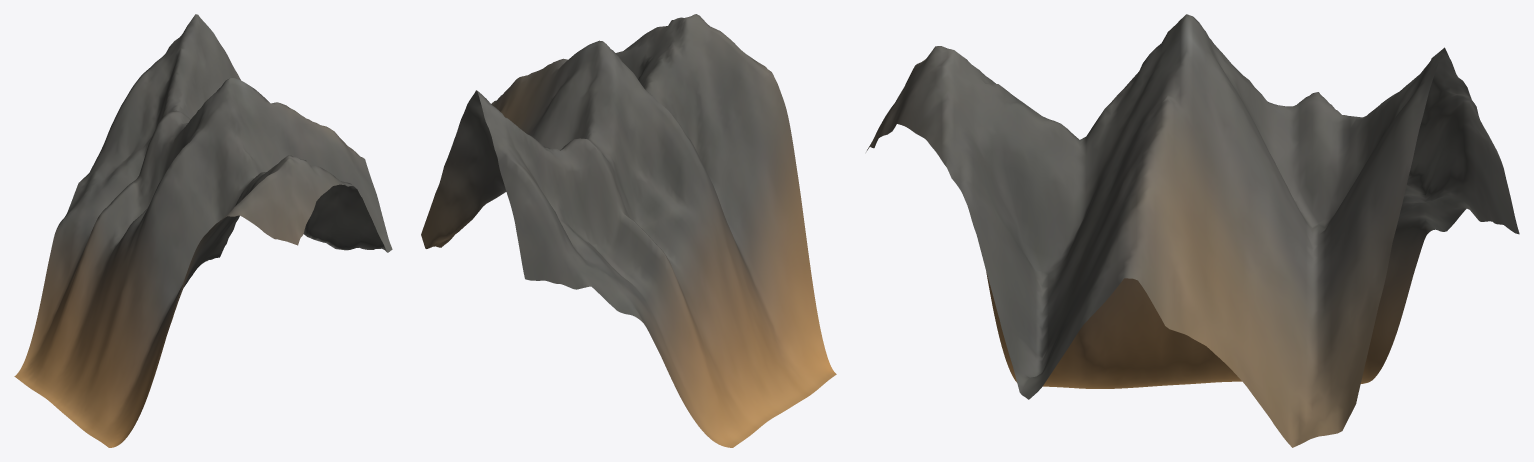
3 renders of one model, left to right at view 1: azimuth 30°, elevation 25°; view 2: azimuth 150°, elevation 25°; view 3: azimuth 270°, elevation 25°, orthographic. The views are drawn at different scales.
Parts seen in each view (by area): view 1: terrain; view 2: terrain; view 3: terrain.
Part boxes in pixels (box(x1,y1,x2,y2)): terrain: box(14, 14, 392, 447); terrain: box(421, 14, 836, 447); terrain: box(866, 14, 1519, 447).
Size of the model in its own units: 4330 by 4331 by 5000.
